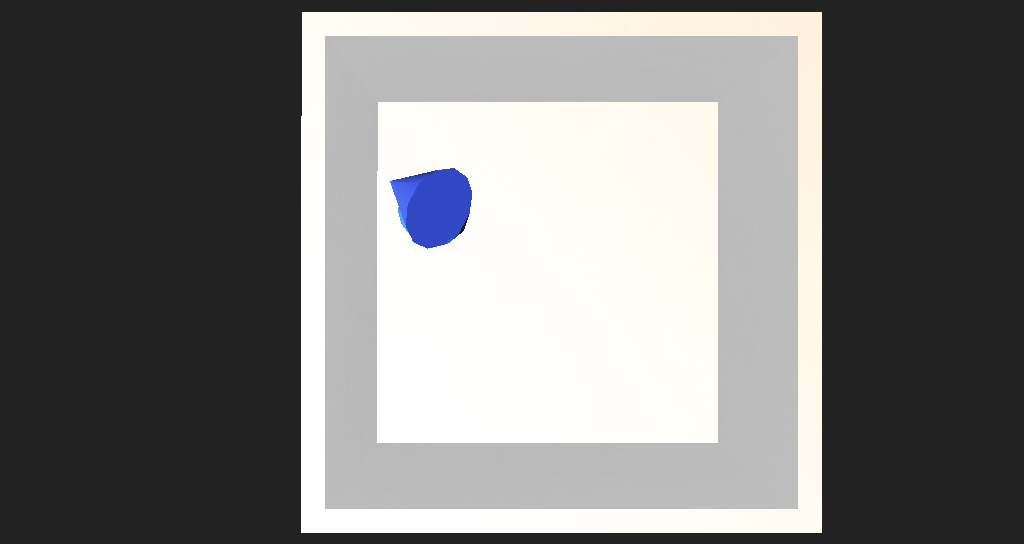cylinder: (310, 172, 445, 258)
sphere: (371, 205, 438, 253)
